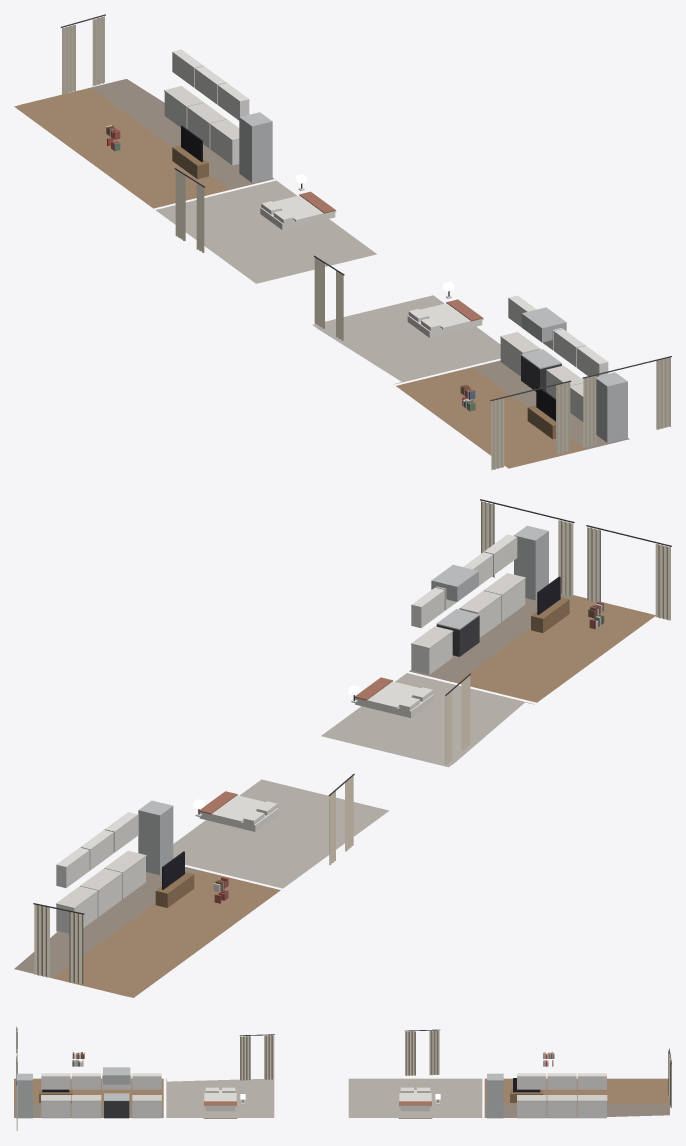
The model's file is fine-s2.glb.
3 renders of one model, top to bottom at view 1: azimuth 30°, elevation 25°; view 2: azimuth 150°, elevation 25°; view 3: azimuth 270°, elevation 25°, orthographic. The views are drawn at different scales.
Parts seen in each view (by area): view 1: soft-s2, fridge.004, range.001, fridge.003, tv-console.004, counter-run.014, tv-console.003, counter-run.012, counter-run.009, counter-run.013, kitchen-upper.016, kitchen-upper.013 (+3 smaller); view 2: soft-s2, range.001, fridge.004, fridge.003, counter-run.009, tv-console.003, tv-console.004, counter-run.012, counter-run.011, counter-run.013, counter-run.014, counter-run.010 (+5 smaller); view 3: soft-s2, range.001, fridge.004, fridge.003, counter-run.010, counter-run.012, counter-run.009, counter-run.011, counter-run.013, counter-run.014, kitchen-upper.010, kitchen-upper.012 (+7 smaller).
Boxes of the visible parts, bbox=[...] form: soft-s2: bbox=[14, 14, 671, 470]; fridge.004: bbox=[239, 112, 272, 182]; range.001: bbox=[521, 307, 566, 391]; fridge.003: bbox=[596, 372, 627, 442]; tv-console.004: bbox=[172, 125, 208, 179]; counter-run.014: bbox=[210, 119, 239, 165]; tv-console.003: bbox=[527, 385, 555, 439]; counter-run.012: bbox=[164, 86, 203, 128]; counter-run.009: bbox=[500, 332, 540, 376]; counter-run.013: bbox=[187, 102, 226, 148]; kitchen-upper.016: bbox=[218, 83, 249, 120]; kitchen-upper.013: bbox=[577, 346, 608, 376]; soft-s2: bbox=[14, 499, 671, 997]; range.001: bbox=[431, 564, 479, 656]; fridge.004: bbox=[138, 800, 173, 874]; fridge.003: bbox=[514, 525, 548, 600]; counter-run.009: bbox=[411, 626, 453, 674]; tv-console.003: bbox=[531, 576, 569, 632]; tv-console.004: bbox=[155, 851, 194, 907]; counter-run.012: bbox=[56, 886, 97, 933]; counter-run.011: bbox=[483, 573, 525, 621]; counter-run.013: bbox=[80, 868, 122, 916]; counter-run.014: bbox=[104, 850, 146, 899]; counter-run.010: bbox=[459, 590, 501, 637]; soft-s2: bbox=[14, 1026, 671, 1130]; range.001: bbox=[103, 1067, 130, 1118]; fridge.004: bbox=[487, 1073, 503, 1118]; fridge.003: bbox=[16, 1073, 32, 1118]; counter-run.010: bbox=[71, 1095, 101, 1118]; counter-run.012: bbox=[577, 1095, 607, 1118]; counter-run.009: bbox=[132, 1095, 161, 1118]; counter-run.011: bbox=[41, 1095, 70, 1118]; counter-run.013: bbox=[547, 1095, 576, 1118]; counter-run.014: bbox=[517, 1095, 546, 1118]; kitchen-upper.010: bbox=[132, 1073, 161, 1089]; kitchen-upper.012: bbox=[71, 1073, 100, 1089].
Bounding box in the file's own units: 6.62 × 2.5 × 31.42.
